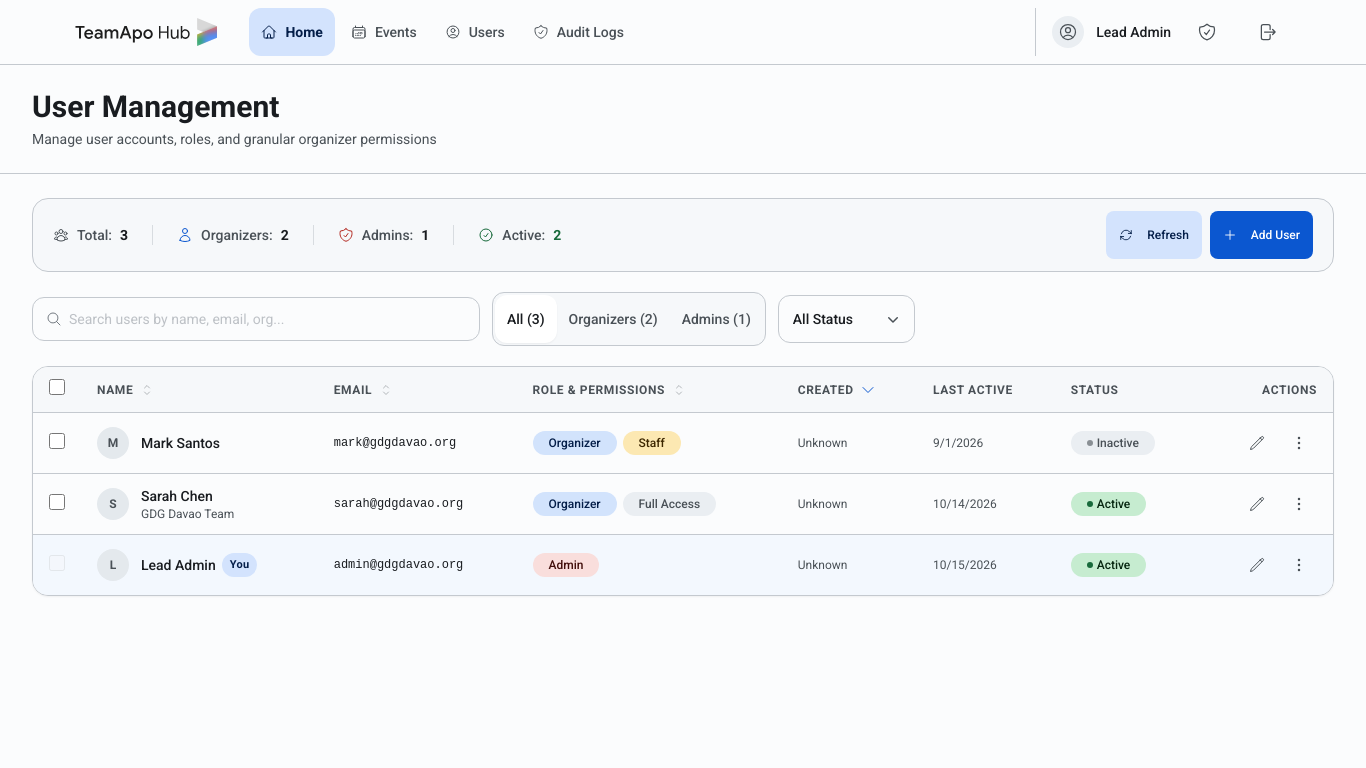
Test: Modernized UsersPage & Components › disables deleting the last remaining active administrator
Check: the heading "User Management" is shown, box [32,89,280,124]
Check: the text "Lead Admin" next to "You" is shown, box [141,557,216,573]
# Own account cannot be deleted
Click the button named "actions for lead admin". click: (1299, 565)
box: [1281,547,1317,583]
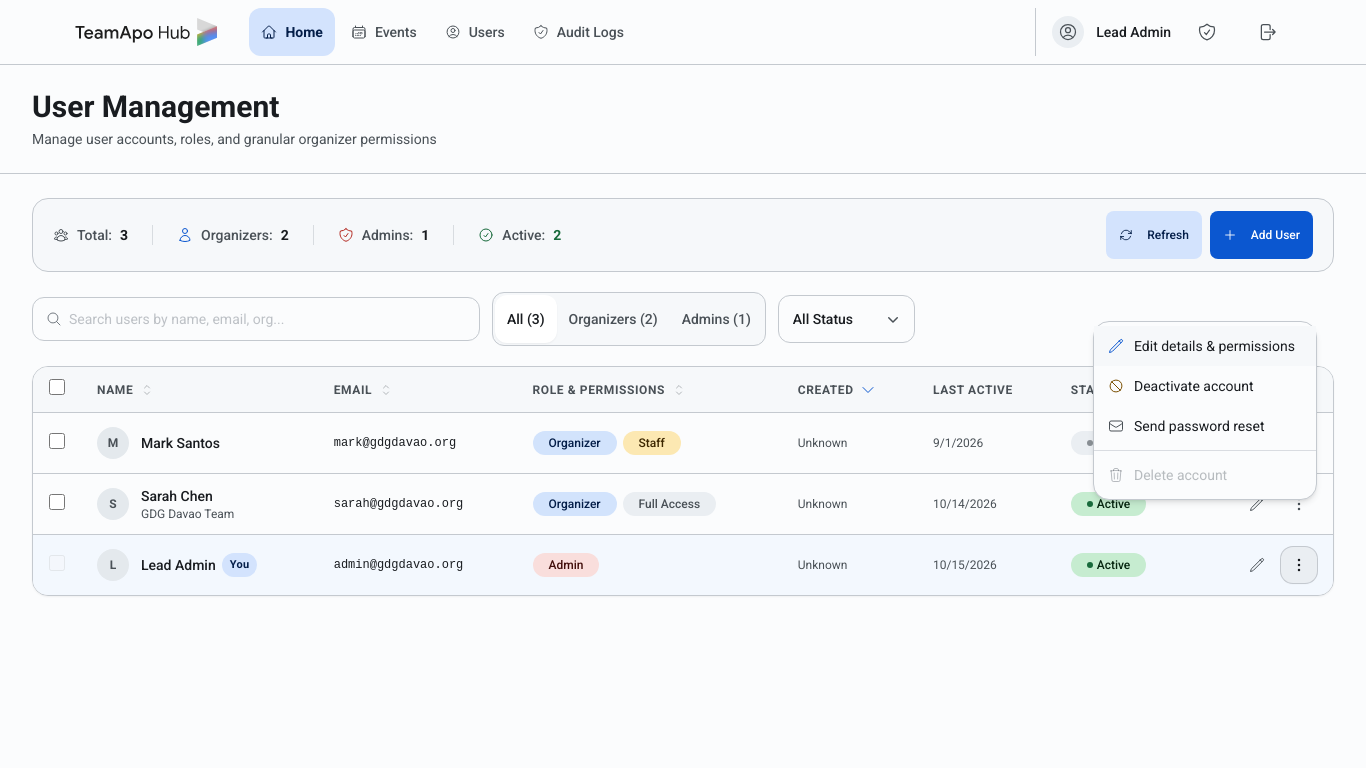
Check: the menu item "Delete account" is disabled, box [1094,455,1316,495]
